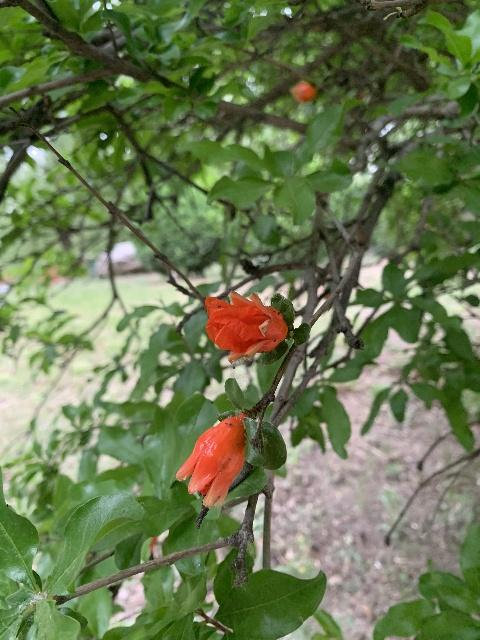bud: (291, 83, 317, 102)
flower: (175, 414, 246, 507), (204, 290, 288, 362)
